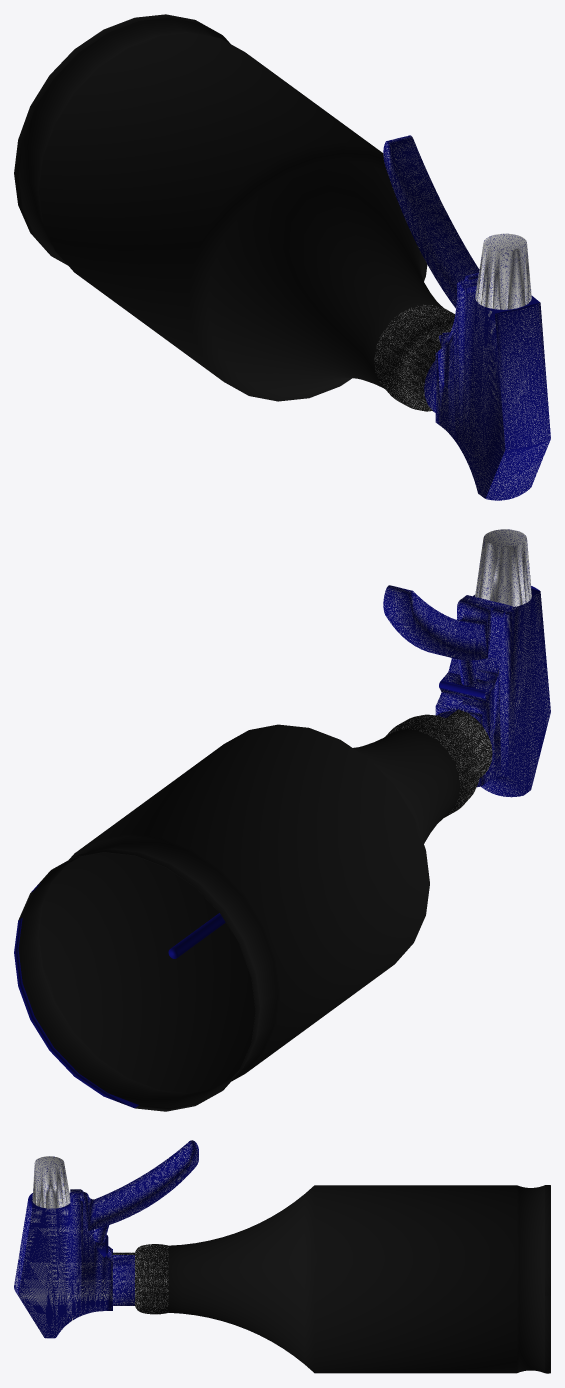
File: model_scale.obj
3 renders of one model, top to bottom at view 1: azimuth 30°, elevation 25°; view 2: azimuth 150°, elevation 25°; view 3: azimuth 270°, elevation 25°, orthographic. The views are drawn at different scales.
Visible parts, largest first — view 1: mesh1_mesh1-geometry; view 2: mesh1_mesh1-geometry; view 3: mesh1_mesh1-geometry.
Boxes of the visible parts, x1,y1,x2,y2 form: mesh1_mesh1-geometry: (14,14,550,500); mesh1_mesh1-geometry: (14,529,550,1111); mesh1_mesh1-geometry: (14,1140,550,1373).
Size of the model in its own units: 0.084 by 0.1081 by 0.2381.
